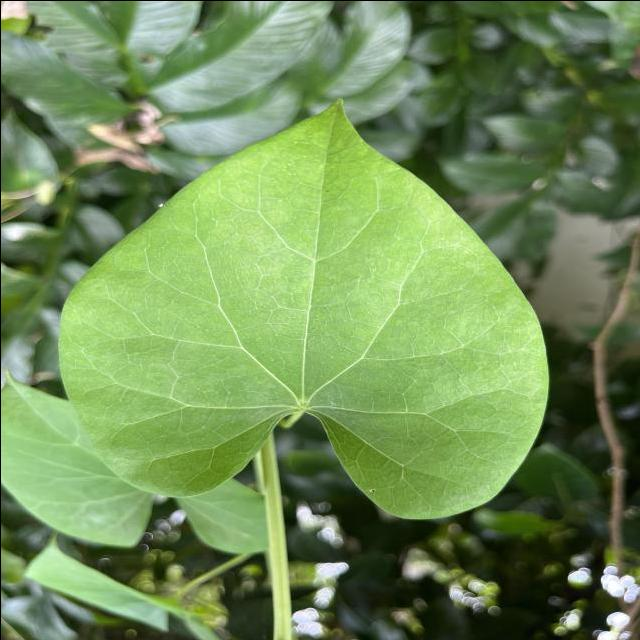Tinospora cordifolia: (52, 95, 556, 528)
